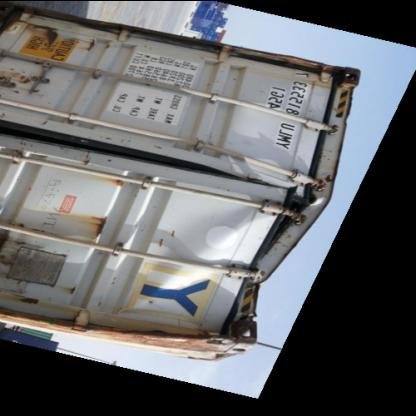Damage: (184, 212, 310, 350), (1, 18, 106, 94), (289, 154, 337, 213), (311, 61, 370, 102), (78, 204, 122, 256)
